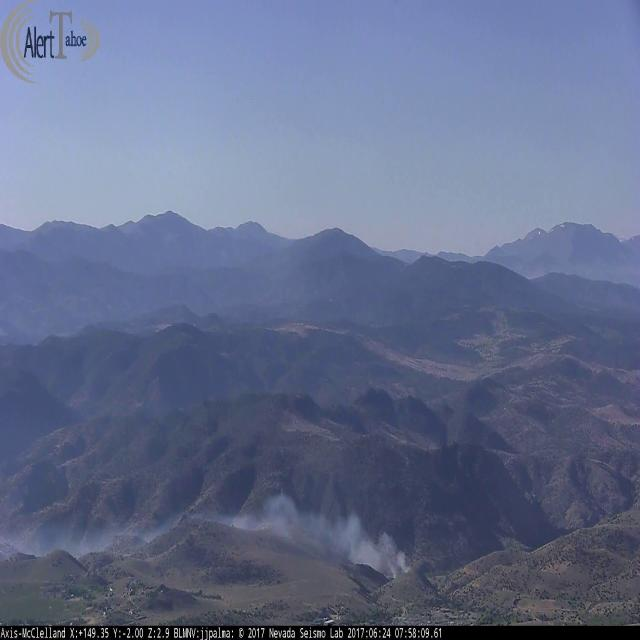smoke: (0, 488, 431, 588)
